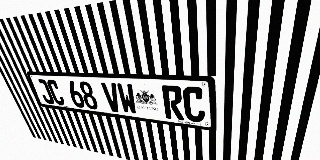6: (65, 80, 86, 108)
8: (78, 81, 99, 110)
C: (182, 86, 205, 123), (45, 79, 66, 106)
J: (35, 79, 55, 104)
R: (161, 85, 184, 120)
V: (101, 82, 123, 113)
W: (116, 83, 138, 115)
